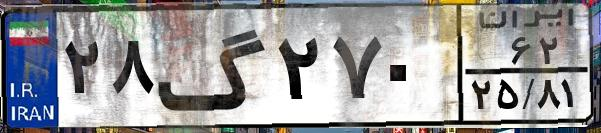0: (385, 28, 445, 110)
1: (560, 70, 590, 125)
2: (270, 28, 330, 110), (57, 26, 110, 100), (537, 27, 568, 80), (470, 70, 495, 125)
5: (495, 70, 520, 125)
6: (508, 27, 537, 80)
7: (330, 28, 385, 110)
8: (110, 28, 156, 98), (535, 70, 560, 125)
گ: (156, 12, 270, 120)
